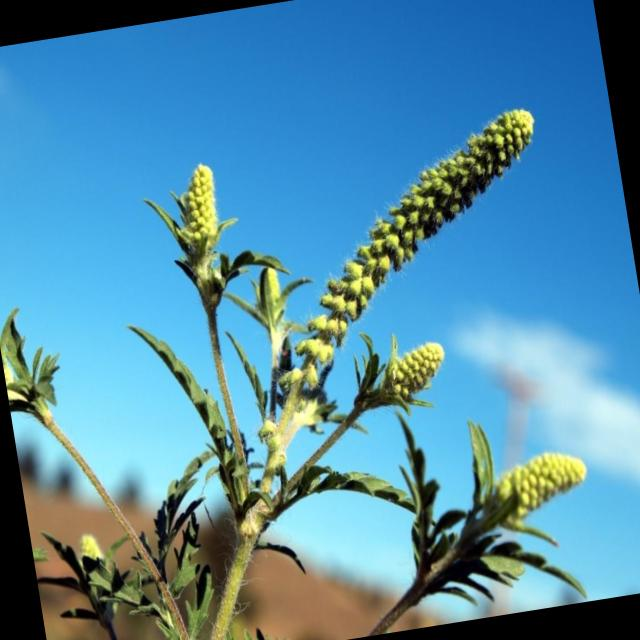ambrosia: (237, 4, 629, 573), (152, 128, 308, 461)
